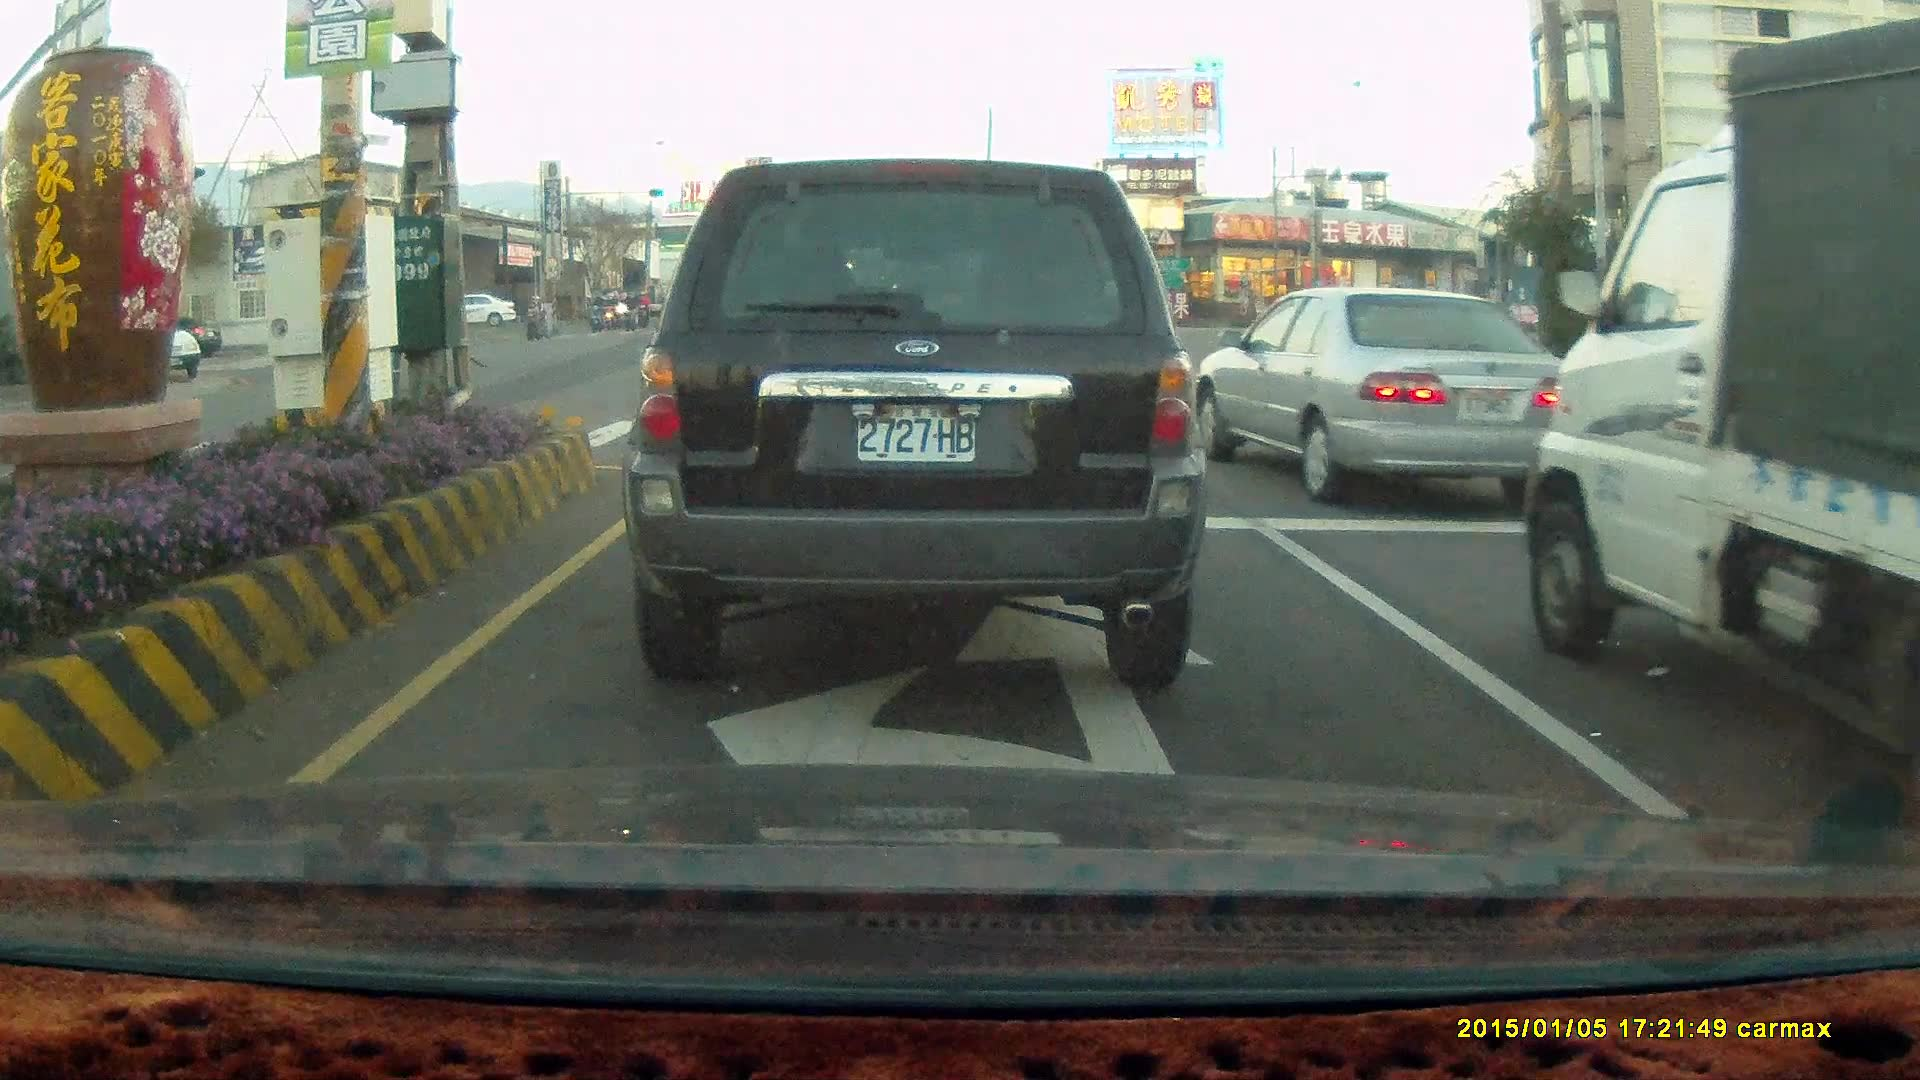rider: (516, 292, 547, 341), (619, 289, 643, 334), (585, 290, 606, 334), (589, 294, 611, 333)
vehicle: (1522, 11, 1920, 842), (620, 157, 1206, 688), (1189, 283, 1576, 505), (1181, 287, 1562, 506), (1676, 281, 1832, 371), (448, 295, 517, 328)
